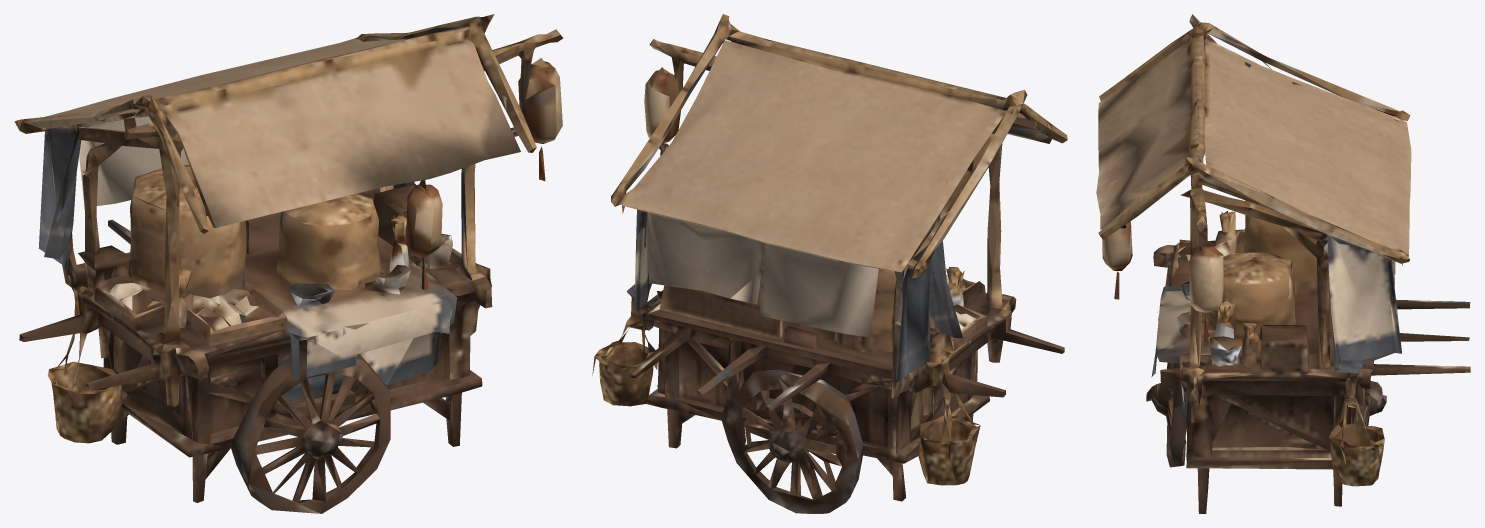
Rendered from 05_Steamed_Bun_Cart_LOD2.fbx.
The picture shows the model from 3 angles, left to right: view 1: azimuth 30°, elevation 25°; view 2: azimuth 150°, elevation 25°; view 3: azimuth 270°, elevation 25°; orthographic projection. The views are drawn at different scales.
Visible parts, largest first — view 1: 05_Steamed_Bun_Cart_L2; view 2: 05_Steamed_Bun_Cart_L2; view 3: 05_Steamed_Bun_Cart_L2.
Boxes of the visible parts, box(x1,y1,x2,y2) form: 05_Steamed_Bun_Cart_L2: box(14, 14, 563, 513); 05_Steamed_Bun_Cart_L2: box(592, 14, 1067, 513); 05_Steamed_Bun_Cart_L2: box(1096, 14, 1470, 513).
Bounding box in the file's own units: 2.54 × 2.3 × 2.03.
